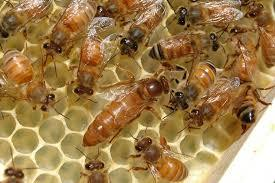Queen-Bee: (77, 72, 172, 151)
worker-bee: (0, 46, 60, 123), (39, 1, 97, 67), (71, 20, 112, 101), (188, 76, 236, 141), (144, 30, 219, 64), (124, 0, 165, 62), (167, 61, 221, 108), (174, 2, 248, 28)
